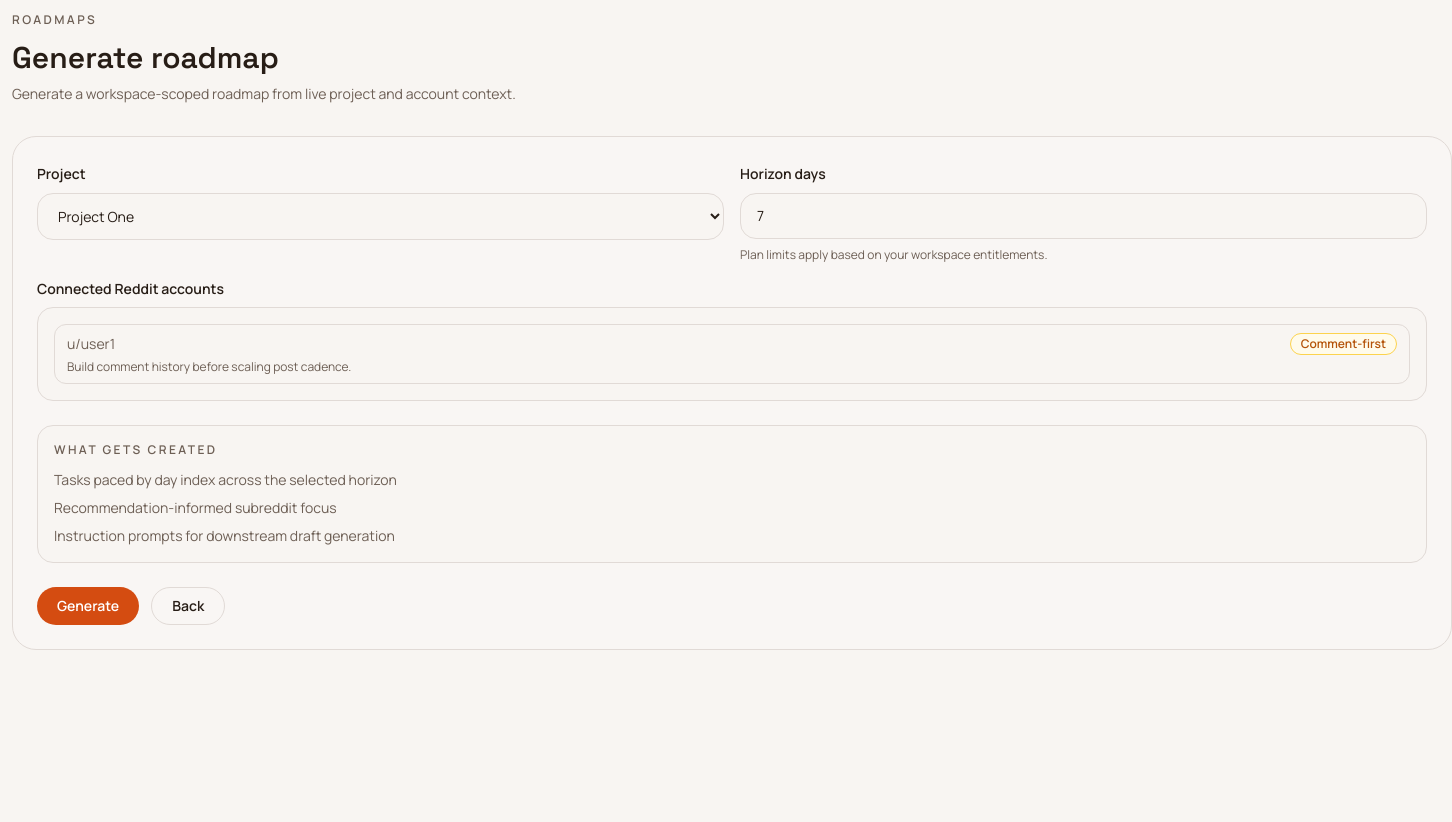
it: RoadmapGenerateForm › shows fallback error for non-JSON failure response
Click the button "Generate" at (88, 606), box x1=37 y1=587 x2=139 y2=625
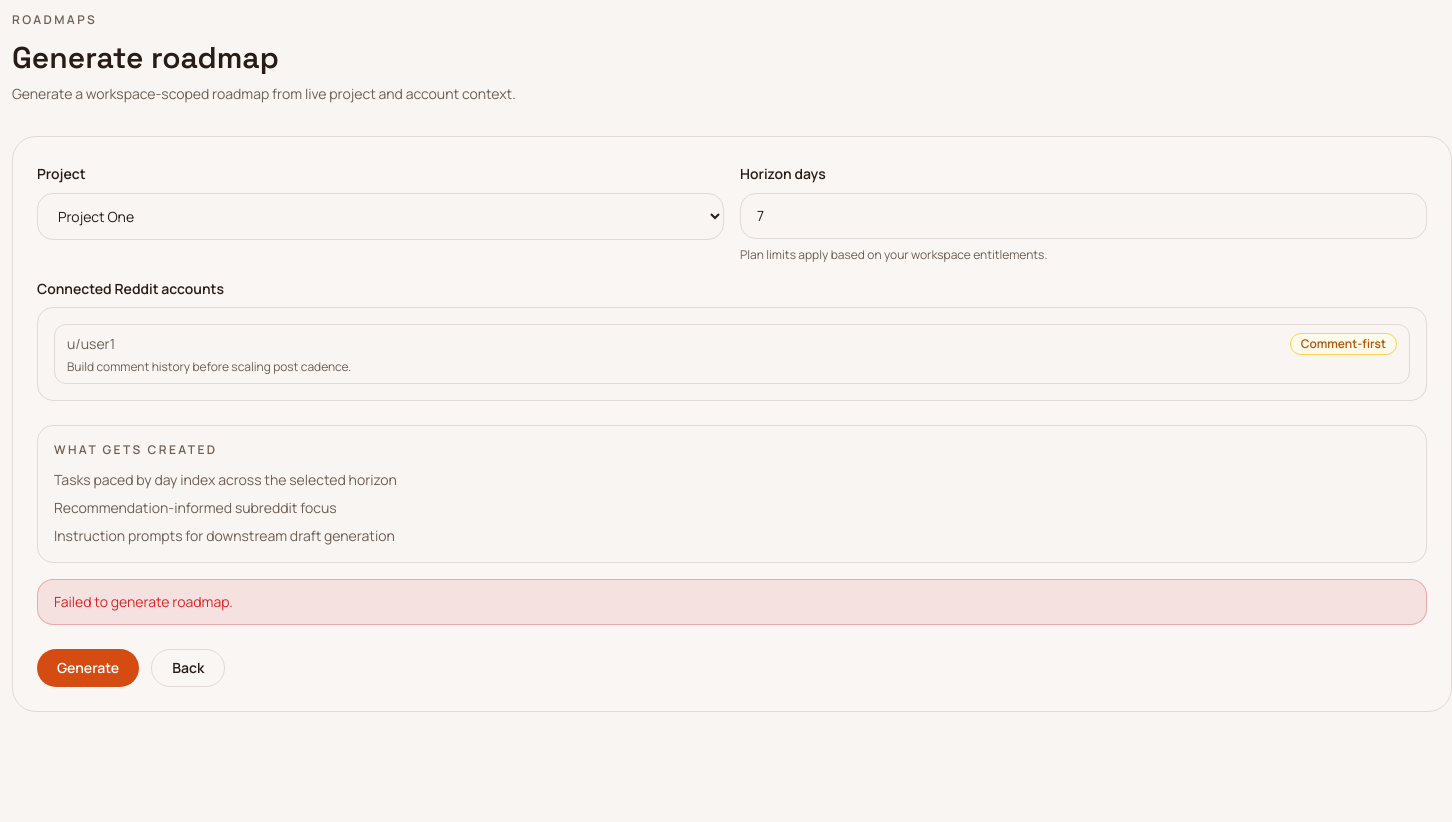
Result: the text "Failed to generate roadmap." is shown at x1=37 y1=579 x2=1427 y2=625
